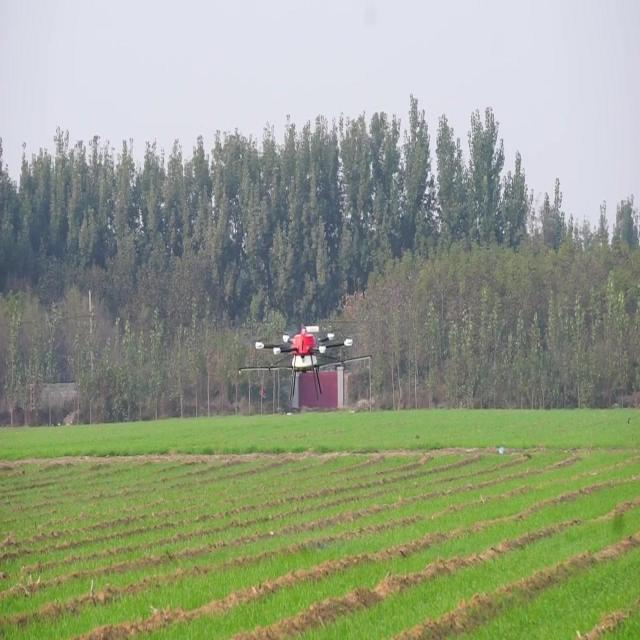UAV: (255, 323, 353, 402)
